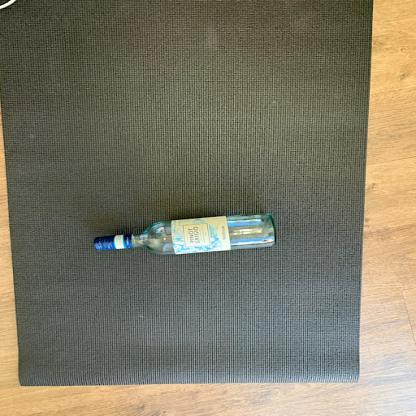trash: (90, 210, 280, 266)
